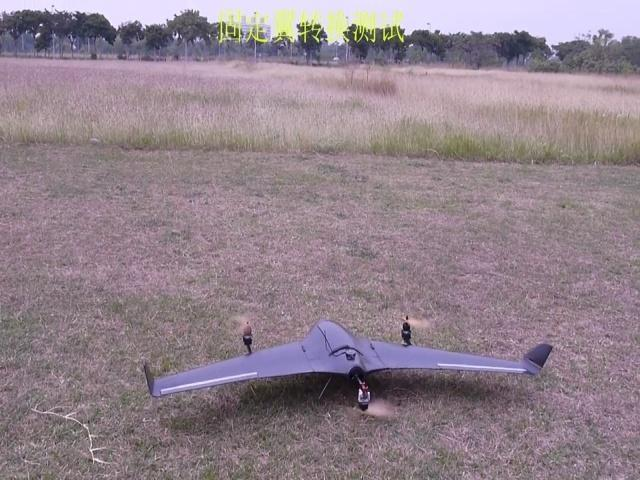Airplane: (143, 318, 553, 418)
